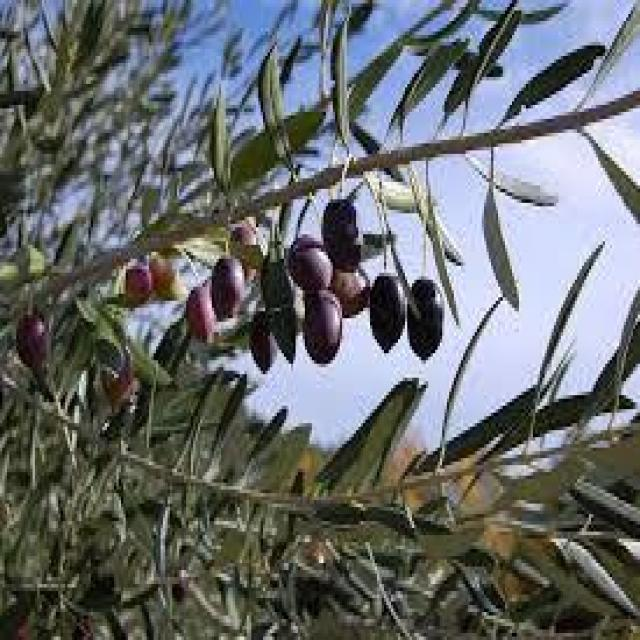Healthy: (407, 276, 442, 360), (370, 273, 406, 351), (305, 293, 344, 365), (321, 199, 359, 269), (288, 234, 330, 294), (212, 259, 244, 318)
